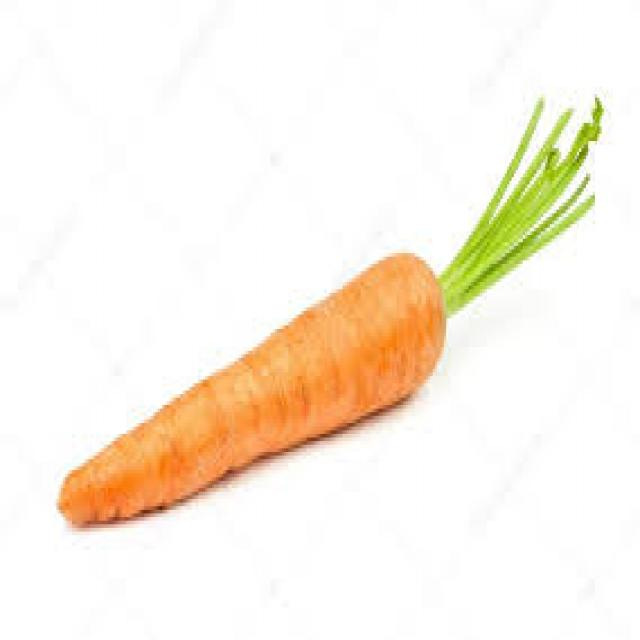organic waste: (54, 249, 444, 528), (439, 90, 602, 314)
